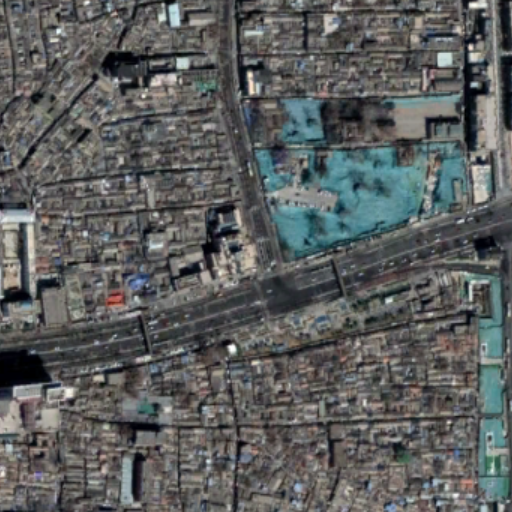cw: (253, 88, 498, 264), (469, 276, 511, 503)
